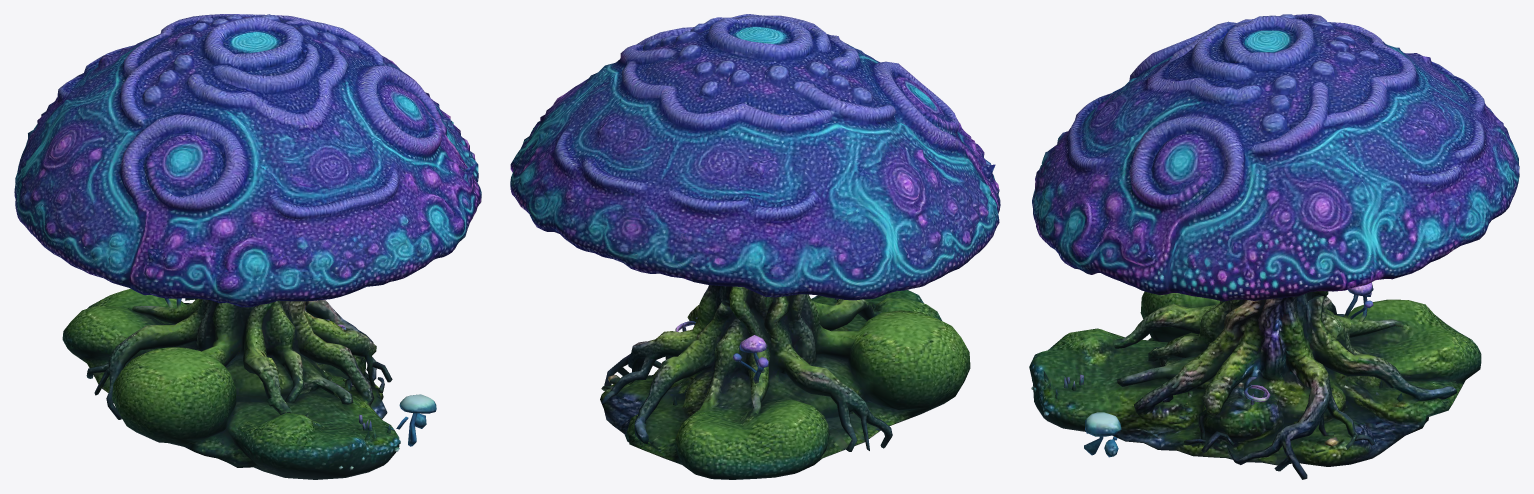
File: mushroom.glb
3 renders of one model, left to right at view 1: azimuth 30°, elevation 25°; view 2: azimuth 150°, elevation 25°; view 3: azimuth 270°, elevation 25°, orthographic. The views are drawn at different scales.
Parts seen in each view (by area): view 1: tripo_node_a6410784-4074-4326-9990-b6c70c849b9f; view 2: tripo_node_a6410784-4074-4326-9990-b6c70c849b9f; view 3: tripo_node_a6410784-4074-4326-9990-b6c70c849b9f.
Part boxes in pixels (left/top/right/bottom): tripo_node_a6410784-4074-4326-9990-b6c70c849b9f: left=14, top=14, right=481, bottom=479; tripo_node_a6410784-4074-4326-9990-b6c70c849b9f: left=510, top=14, right=1000, bottom=479; tripo_node_a6410784-4074-4326-9990-b6c70c849b9f: left=1029, top=14, right=1519, bottom=479.
Bounding box in the file's own units: 0.9941 × 0.8669 × 0.998.
1 material, 1 textured.
